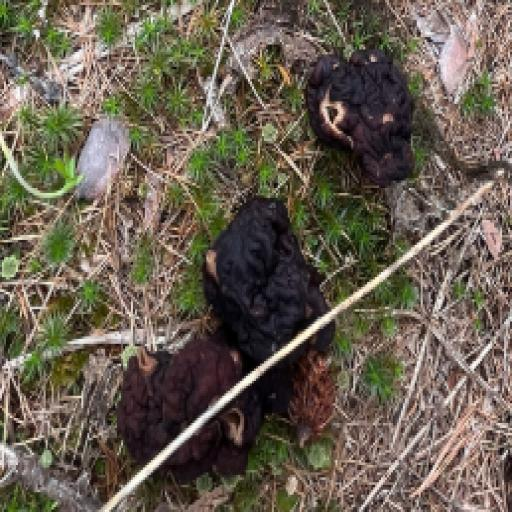mushroom: (114, 189, 338, 460), (307, 25, 424, 194)
